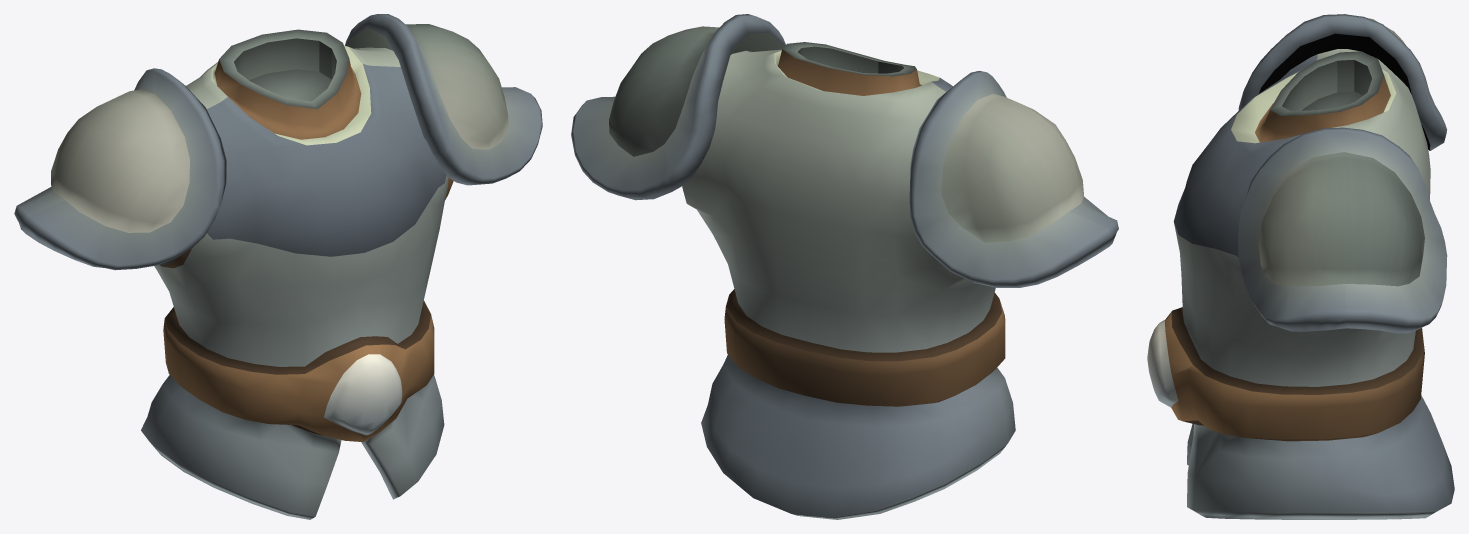
Rendered from armor_2.fbx.
3 renders of one model, left to right at view 1: azimuth 30°, elevation 25°; view 2: azimuth 150°, elevation 25°; view 3: azimuth 270°, elevation 25°, orthographic. The views are drawn at different scales.
Visible parts, largest first — view 1: armor_2; view 2: armor_2; view 3: armor_2.
Part boxes in pixels (x1=…): armor_2: x1=14, y1=14, x2=542, y2=519; armor_2: x1=571, y1=14, x2=1118, y2=519; armor_2: x1=1147, y1=14, x2=1454, y2=519.
Bounding box in the file's own units: 26.34 × 20.4 × 13.42.
1 material, 1 textured.
